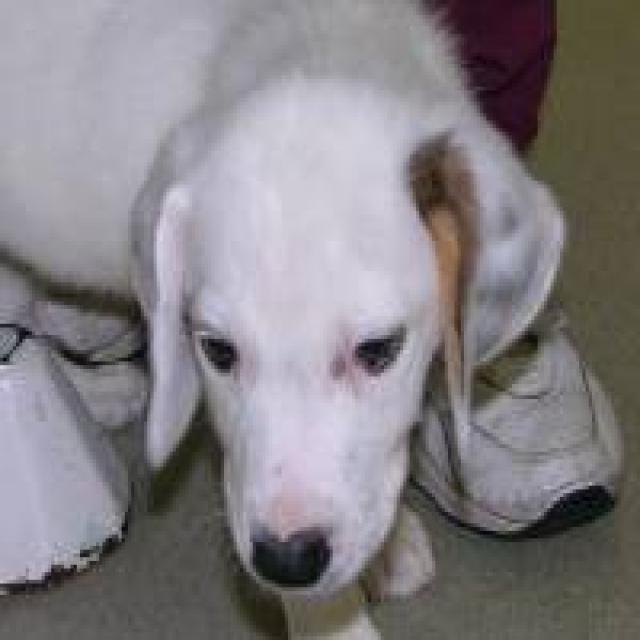cat: (1, 0, 602, 613)
